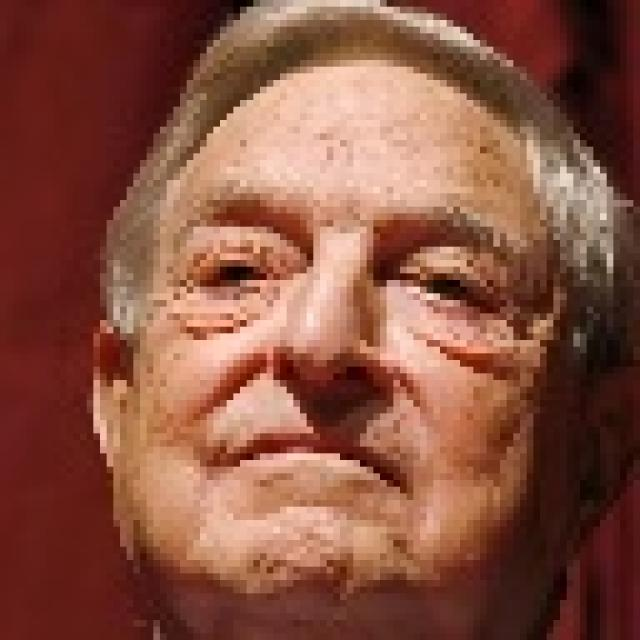sad: (99, 68, 585, 626)
